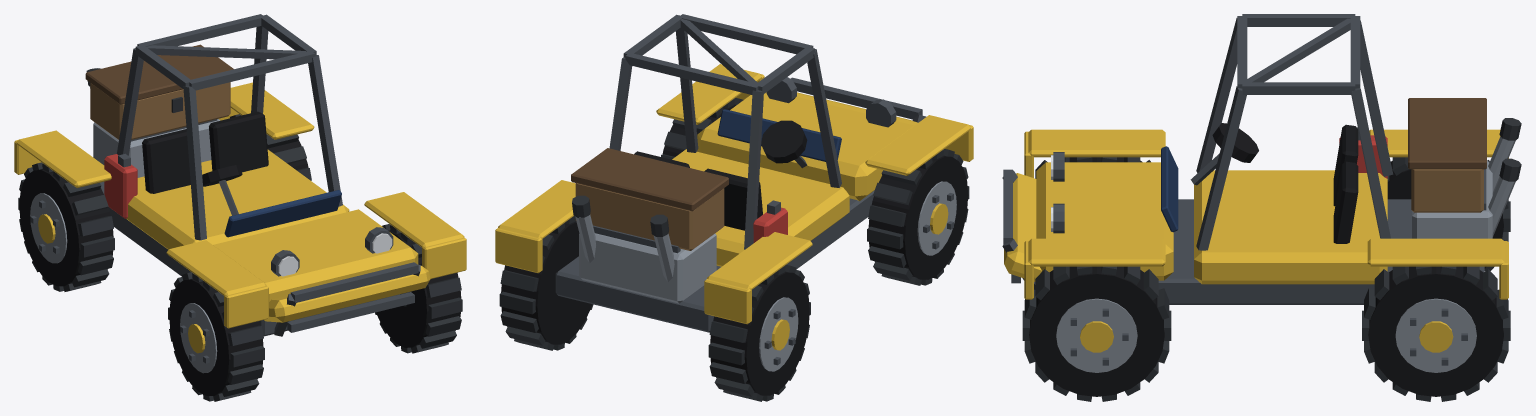
The model's file is buggy.glb.
The picture shows the model from 3 angles, left to right: view 1: azimuth 30°, elevation 25°; view 2: azimuth 150°, elevation 25°; view 3: azimuth 270°, elevation 25°; orthographic projection. The views are drawn at different scales.
Visible parts, largest first — view 1: pieces_jaune.002, pieces_acier_sombre.006, pieces_noir.004, roue_arg_noir.004, pieces_bois.006, roue_avg_noir.004, roue_arg_fonte.004, pieces_bois_sombre.002, roue_avg_fonte.004, roue_avd_noir.004, roue_avd_fonte.004, pieces_panneau.002 (+8 smaller); view 2: pieces_jaune.002, pieces_acier_sombre.006, pieces_acier.006, pieces_bois_sombre.002, pieces_bois.006, roue_avg_noir.004, roue_arg_noir.004, roue_ard_noir.004, roue_avg_fonte.004, pieces_noir.004, roue_arg_fonte.004, roue_ard_fonte.004 (+8 smaller); view 3: pieces_jaune.002, pieces_acier_sombre.006, roue_avd_noir.004, roue_ard_noir.004, pieces_bois_sombre.002, roue_avd_acier.004, roue_ard_acier.004, pieces_acier.006, roue_avd_fonte.004, roue_ard_fonte.004, pieces_noir.004, pieces_bois.006 (+6 smaller).
Part boxes in pixels (x1,y1,x2,y2): pieces_jaune.002: (14,82,466,328); pieces_acier_sombre.006: (100,14,420,336); pieces_noir.004: (142,111,268,193); roue_arg_noir.004: (19,169,113,286); pieces_bois.006: (90,82,230,139); roue_avg_noir.004: (169,278,263,395); roue_arg_fonte.004: (18,162,114,291); pieces_bois_sombre.002: (85,44,233,104); roue_avg_fonte.004: (168,272,264,401); roue_avd_noir.004: (376,230,461,347); roue_avd_fonte.004: (375,224,462,353); pieces_panneau.002: (224,190,341,237); pieces_jaune.002: (495,64,973,324); pieces_acier_sombre.006: (555,14,926,332); pieces_acier.006: (575,214,716,303); pieces_bois_sombre.002: (571,148,728,211); pieces_bois.006: (575,183,724,250); roue_avg_noir.004: (868,155,968,279); roue_arg_noir.004: (710,271,809,395); roue_ard_noir.004: (501,221,592,344); roue_avg_fonte.004: (867,149,969,285); pieces_noir.004: (634,120,807,230); roue_arg_fonte.004: (708,264,810,401); roue_ard_fonte.004: (499,216,593,350); pieces_jaune.002: (1004,129,1508,299); pieces_acier_sombre.006: (1002,14,1486,304); roue_avd_noir.004: (1029,266,1164,396); roue_ard_noir.004: (1368,266,1503,396); pieces_bois_sombre.002: (1408,98,1486,169); roue_avd_acier.004: (1056,298,1137,372); roue_ard_acier.004: (1395,298,1476,372); pieces_acier.006: (1412,136,1515,238); roue_avd_fonte.004: (1022,266,1171,401); roue_ard_fonte.004: (1362,266,1510,401); pieces_noir.004: (1212,123,1358,243); pieces_bois.006: (1411,169,1483,212).
Bounding box in the file's own units: 1.67 × 1.68 × 2.73.
